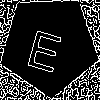E: (24, 20, 67, 73)
